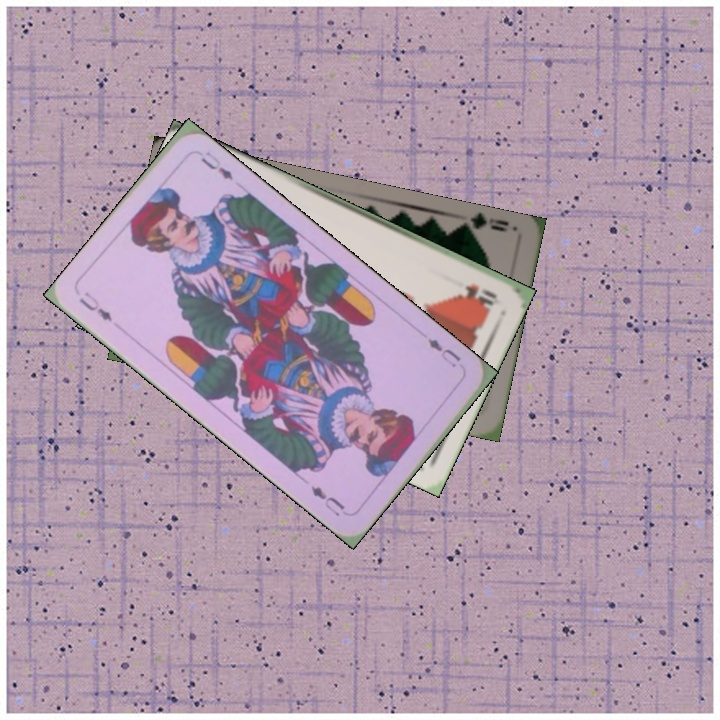EU: (75, 287, 115, 324), (423, 334, 464, 370)
G9: (457, 211, 511, 238)
HO: (460, 280, 502, 308)
